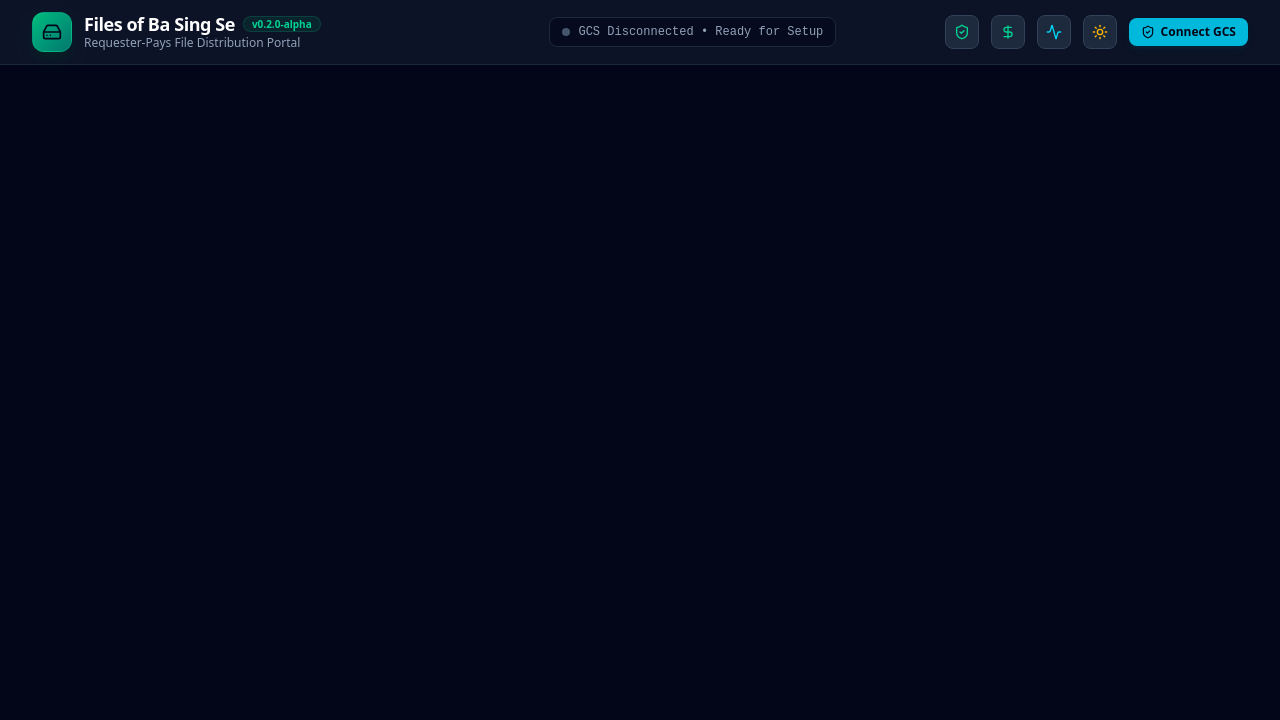
Scenario: Header - Top Bar State & Neutrality Pre-Sign-In / Pre-Setup › toggles theme between dark and light with Sun and Moon icons when clicking toggle button
Check: the icon with class "lucide-sun" is shown, box [1092, 24, 1108, 40]
Click the button named "Toggle Theme" at point(1100, 32), box [1083, 15, 1117, 49]
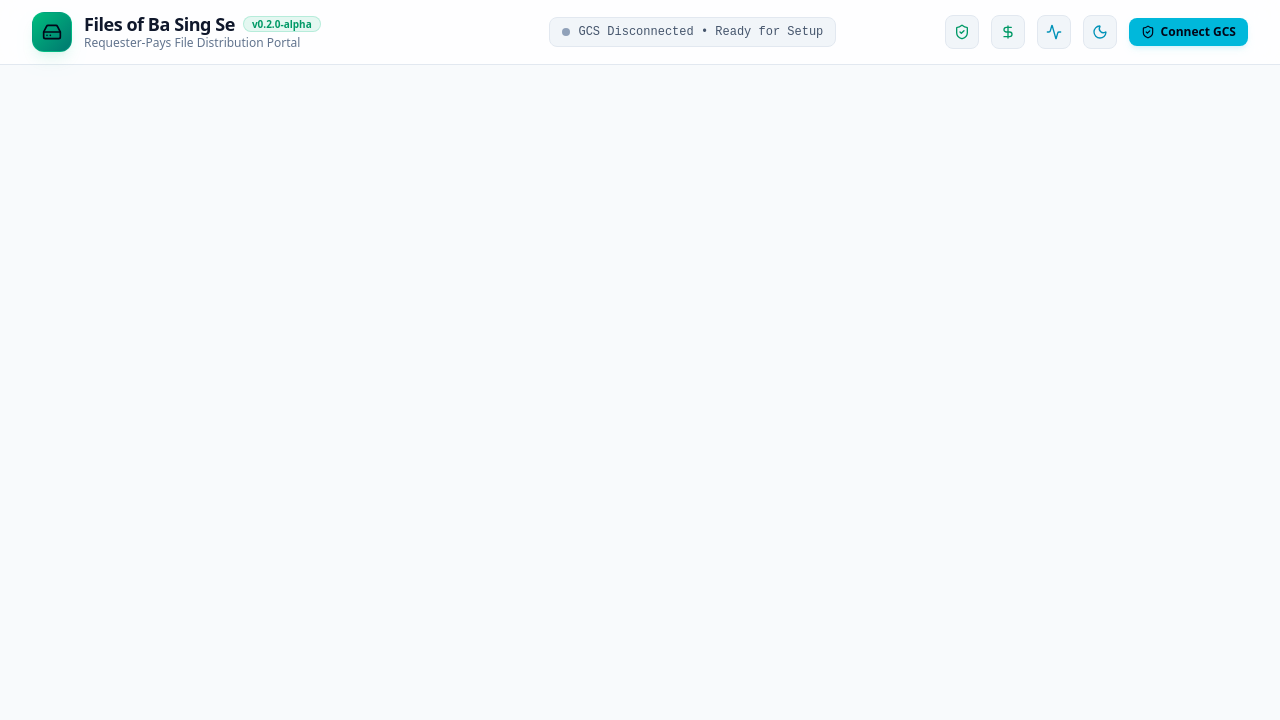
Check: the icon with class "lucide-moon" is shown, box [1092, 24, 1108, 40]
Click the button named "Toggle Theme" at point(1100, 32), box [1083, 15, 1117, 49]
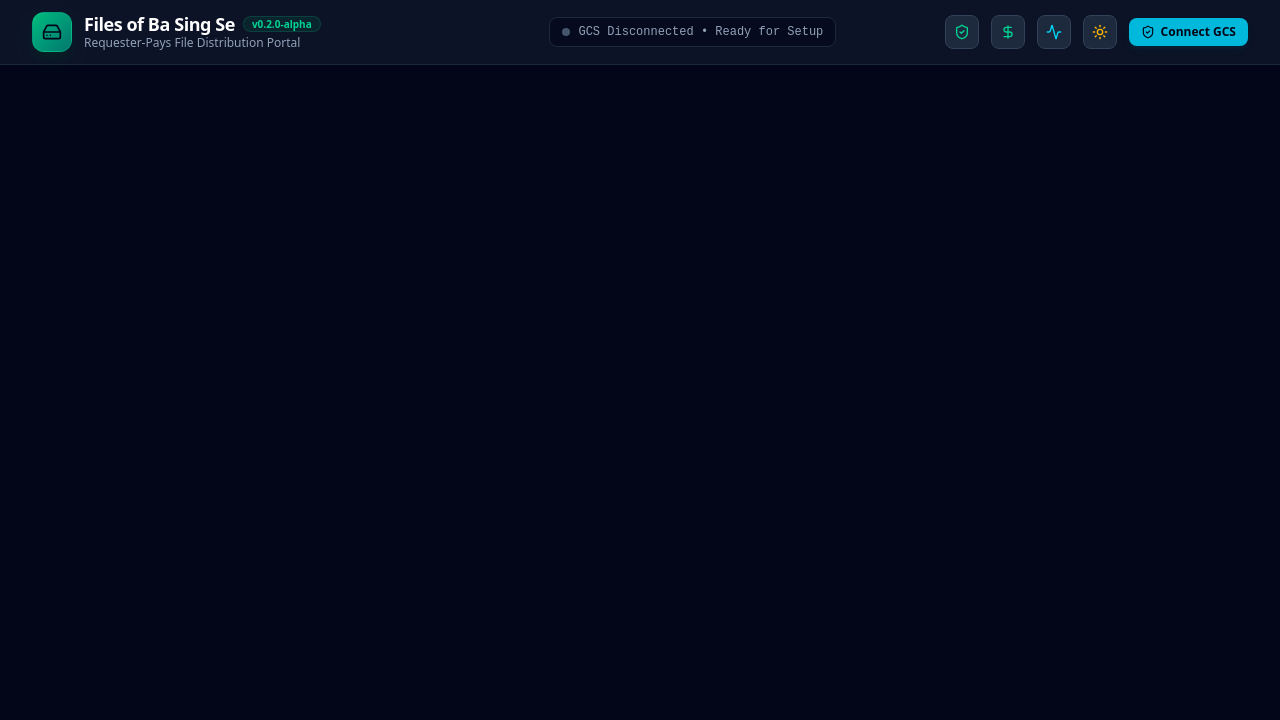
Check: the icon with class "lucide-sun" is shown, box [1092, 24, 1108, 40]
